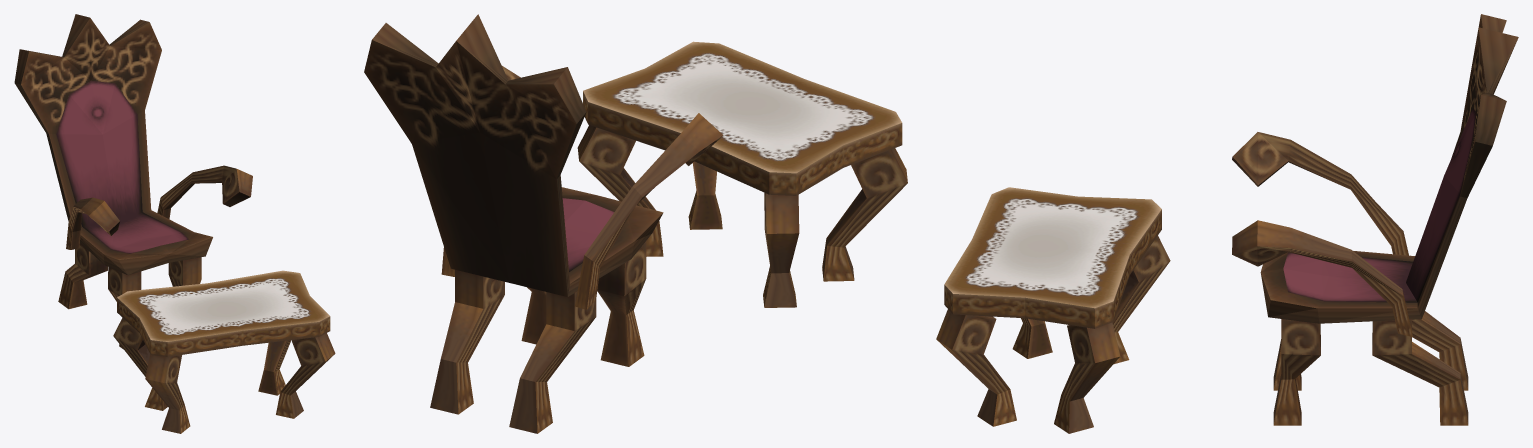
File: decore.dae
3 views of the same model, side by side, from view 1: azimuth 30°, elevation 25°; view 2: azimuth 150°, elevation 25°; view 3: azimuth 270°, elevation 25° (orthographic). The views are drawn at different scales.
Parts seen in each view (by area): view 1: chair, table; view 2: chair, table; view 3: chair, table.
Boxes of the visible parts, <box> form: chair: <box>14,14,252,349</box>; table: <box>113,270,335,433</box>; chair: <box>364,14,723,433</box>; table: <box>577,41,907,307</box>; chair: <box>1232,14,1518,425</box>; table: <box>936,187,1170,433</box>.
Bounding box in the file's own units: 5.27 × 6.97 × 9.82.
2 materials, 2 textured.
